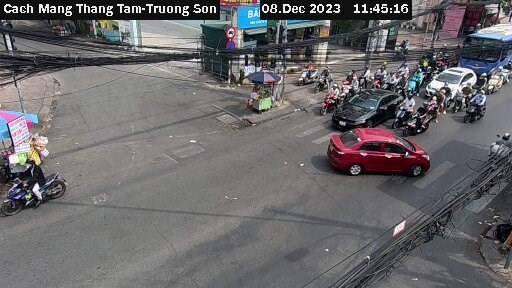bus: (459, 20, 512, 69)
car: (327, 126, 434, 179), (331, 88, 405, 129), (427, 66, 474, 101)
motorbike: (2, 160, 70, 222), (460, 93, 493, 120), (390, 95, 418, 122), (408, 108, 437, 132), (430, 88, 450, 118), (315, 66, 336, 92), (404, 69, 425, 91), (299, 64, 319, 83)
